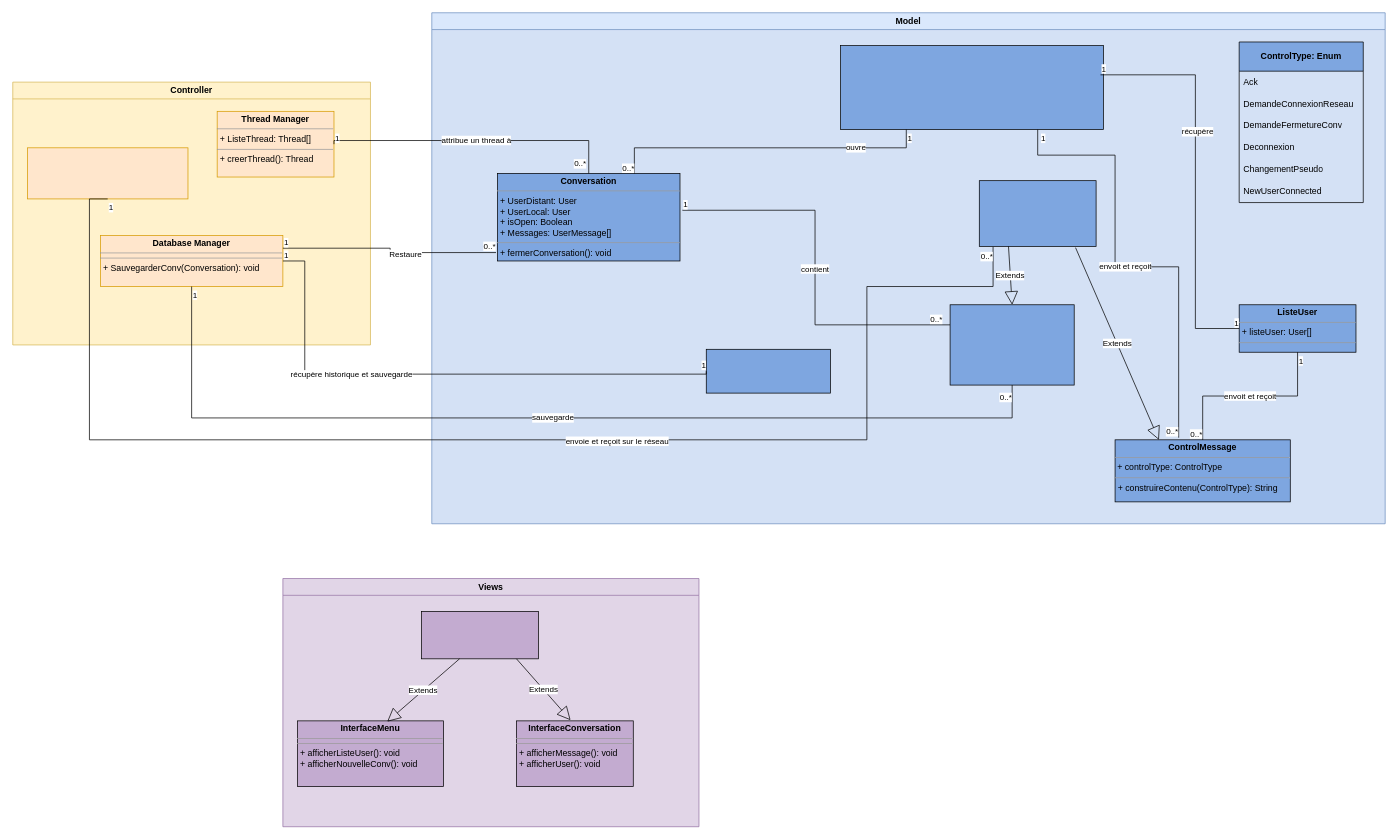
This 1398x840 diagram has some shape labels left out. Each missing label, with the centre of its shape:
"Database + Historique : Conversation[]" goes at point (768, 371).
"InterfaceApplication + reduireApplication(): void" goes at point (479, 635).
"Message + Contenu : String + Expéditeur : User + Destinataire : User" goes at point (1037, 213).
"Network Manager + EnvoyerMessage(Message) : void" goes at point (107, 173).
"User + pseudo: String + changerPseudo(String): void + ouvrirConv(User): void" goes at point (971, 87).
"UserMessage + Date : Date + Payload : String + construireContenu(): String" goes at point (1011, 344).
